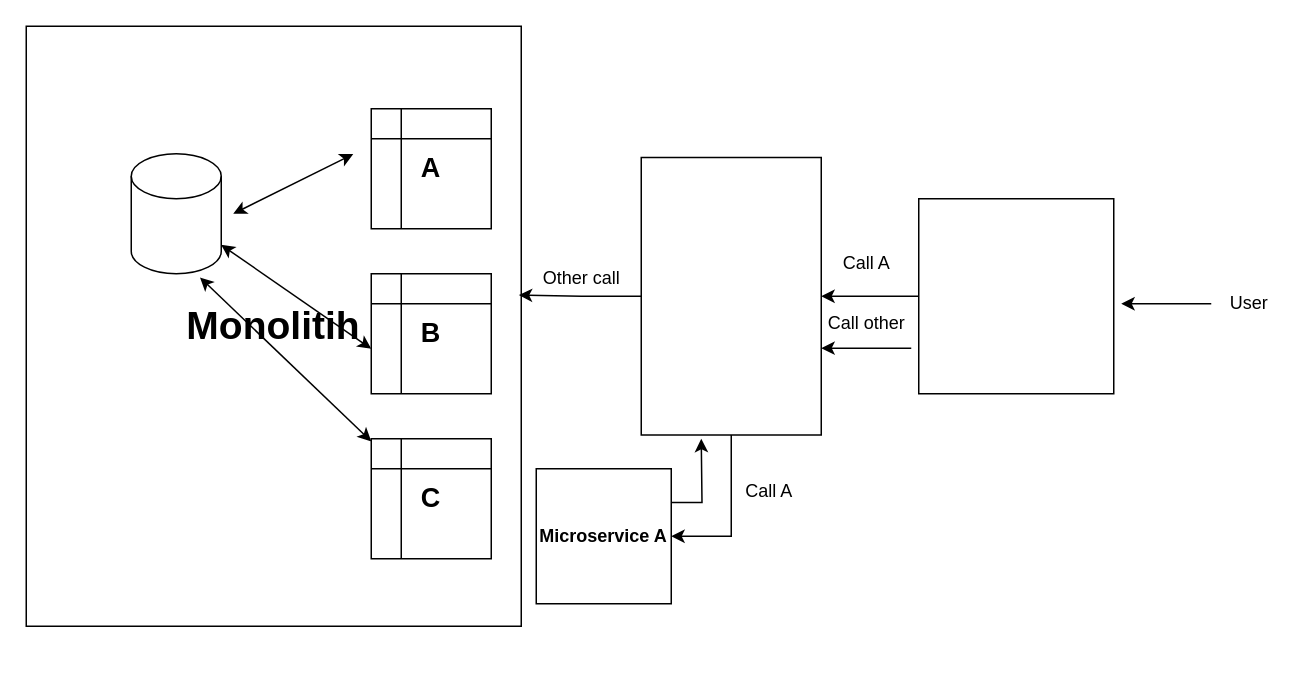
Image size: 1313x675. Some labels were removed from this diagram. The shapes that lost their labels are listed below. From the top down, each one's centre as x and y in pixels, then its label:
At (x=730, y=295): "Strangler Facade".
At (x=1015, y=295): "API Gateway".
